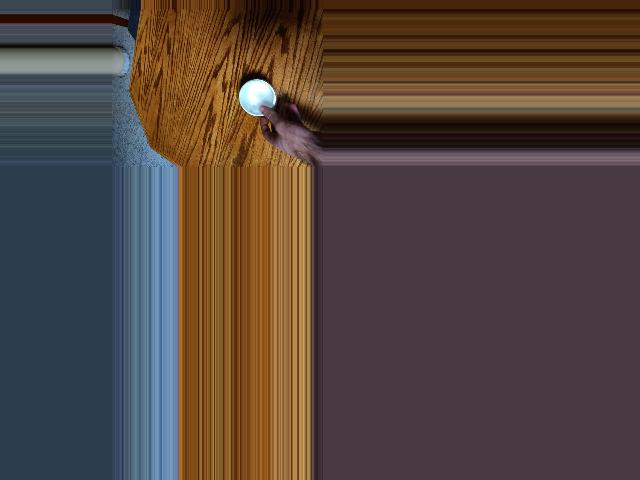cotage: (242, 83, 277, 117)
